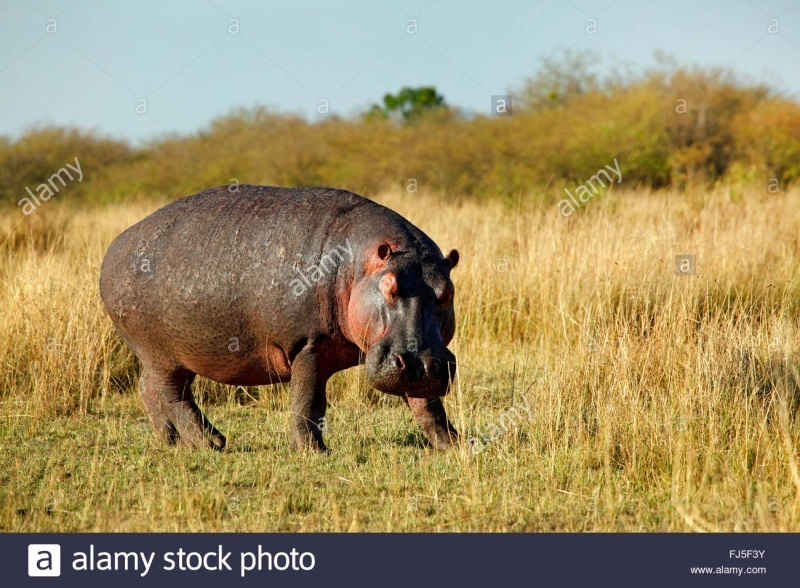hipopotamo: (97, 184, 468, 458)
